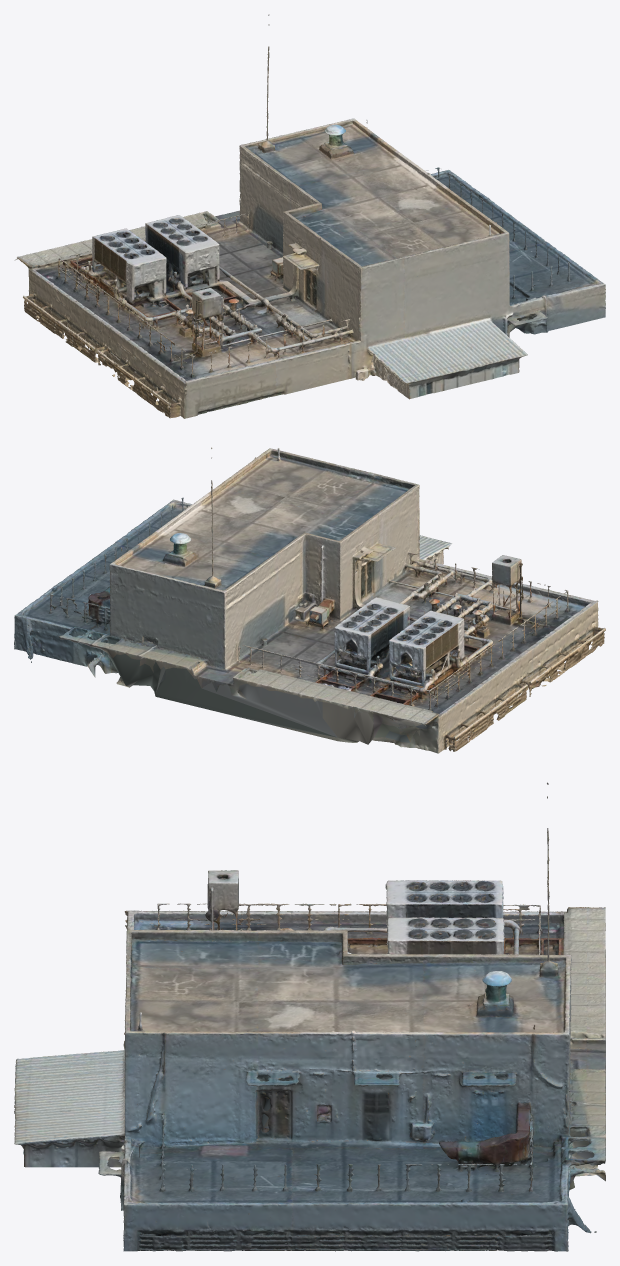
File: roof1.glb
3 renders of one model, top to bottom at view 1: azimuth 30°, elevation 25°; view 2: azimuth 150°, elevation 25°; view 3: azimuth 270°, elevation 25°, orthographic. The views are drawn at different scales.
Visible parts, largest first — view 1: Object_2; view 2: Object_2; view 3: Object_2.
Boxes of the visible parts, x1,y1,x2,y2 form: Object_2: [14, 14, 605, 418]; Object_2: [14, 447, 605, 753]; Object_2: [14, 782, 605, 1251].
Bounding box in the file's own units: 430 × 227 × 359.
Materials: 1 (1 with a texture image).
